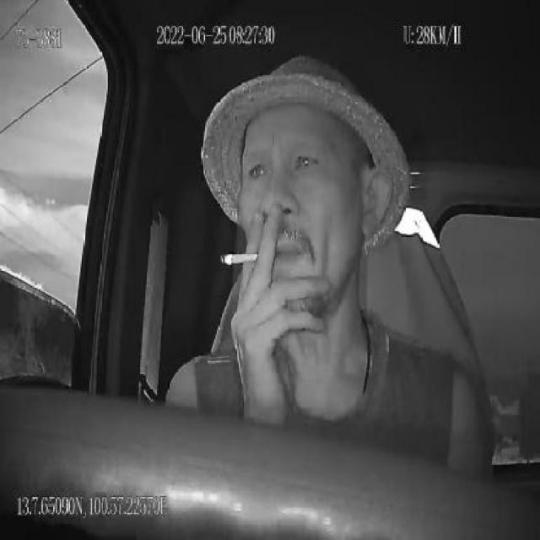smoking: (220, 247, 265, 267)
